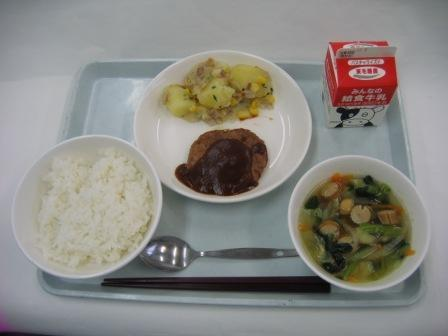Milk: (311, 35, 411, 134)
Rice: (6, 145, 168, 295)
Soups: (291, 160, 431, 293)
cutlet: (170, 122, 278, 203)
vegetable based cooked food: (153, 56, 281, 128)
